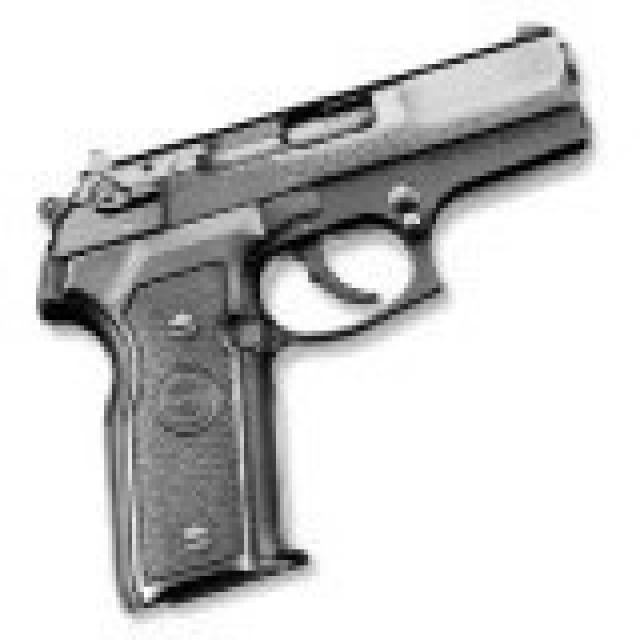Gun: (28, 34, 620, 640)
